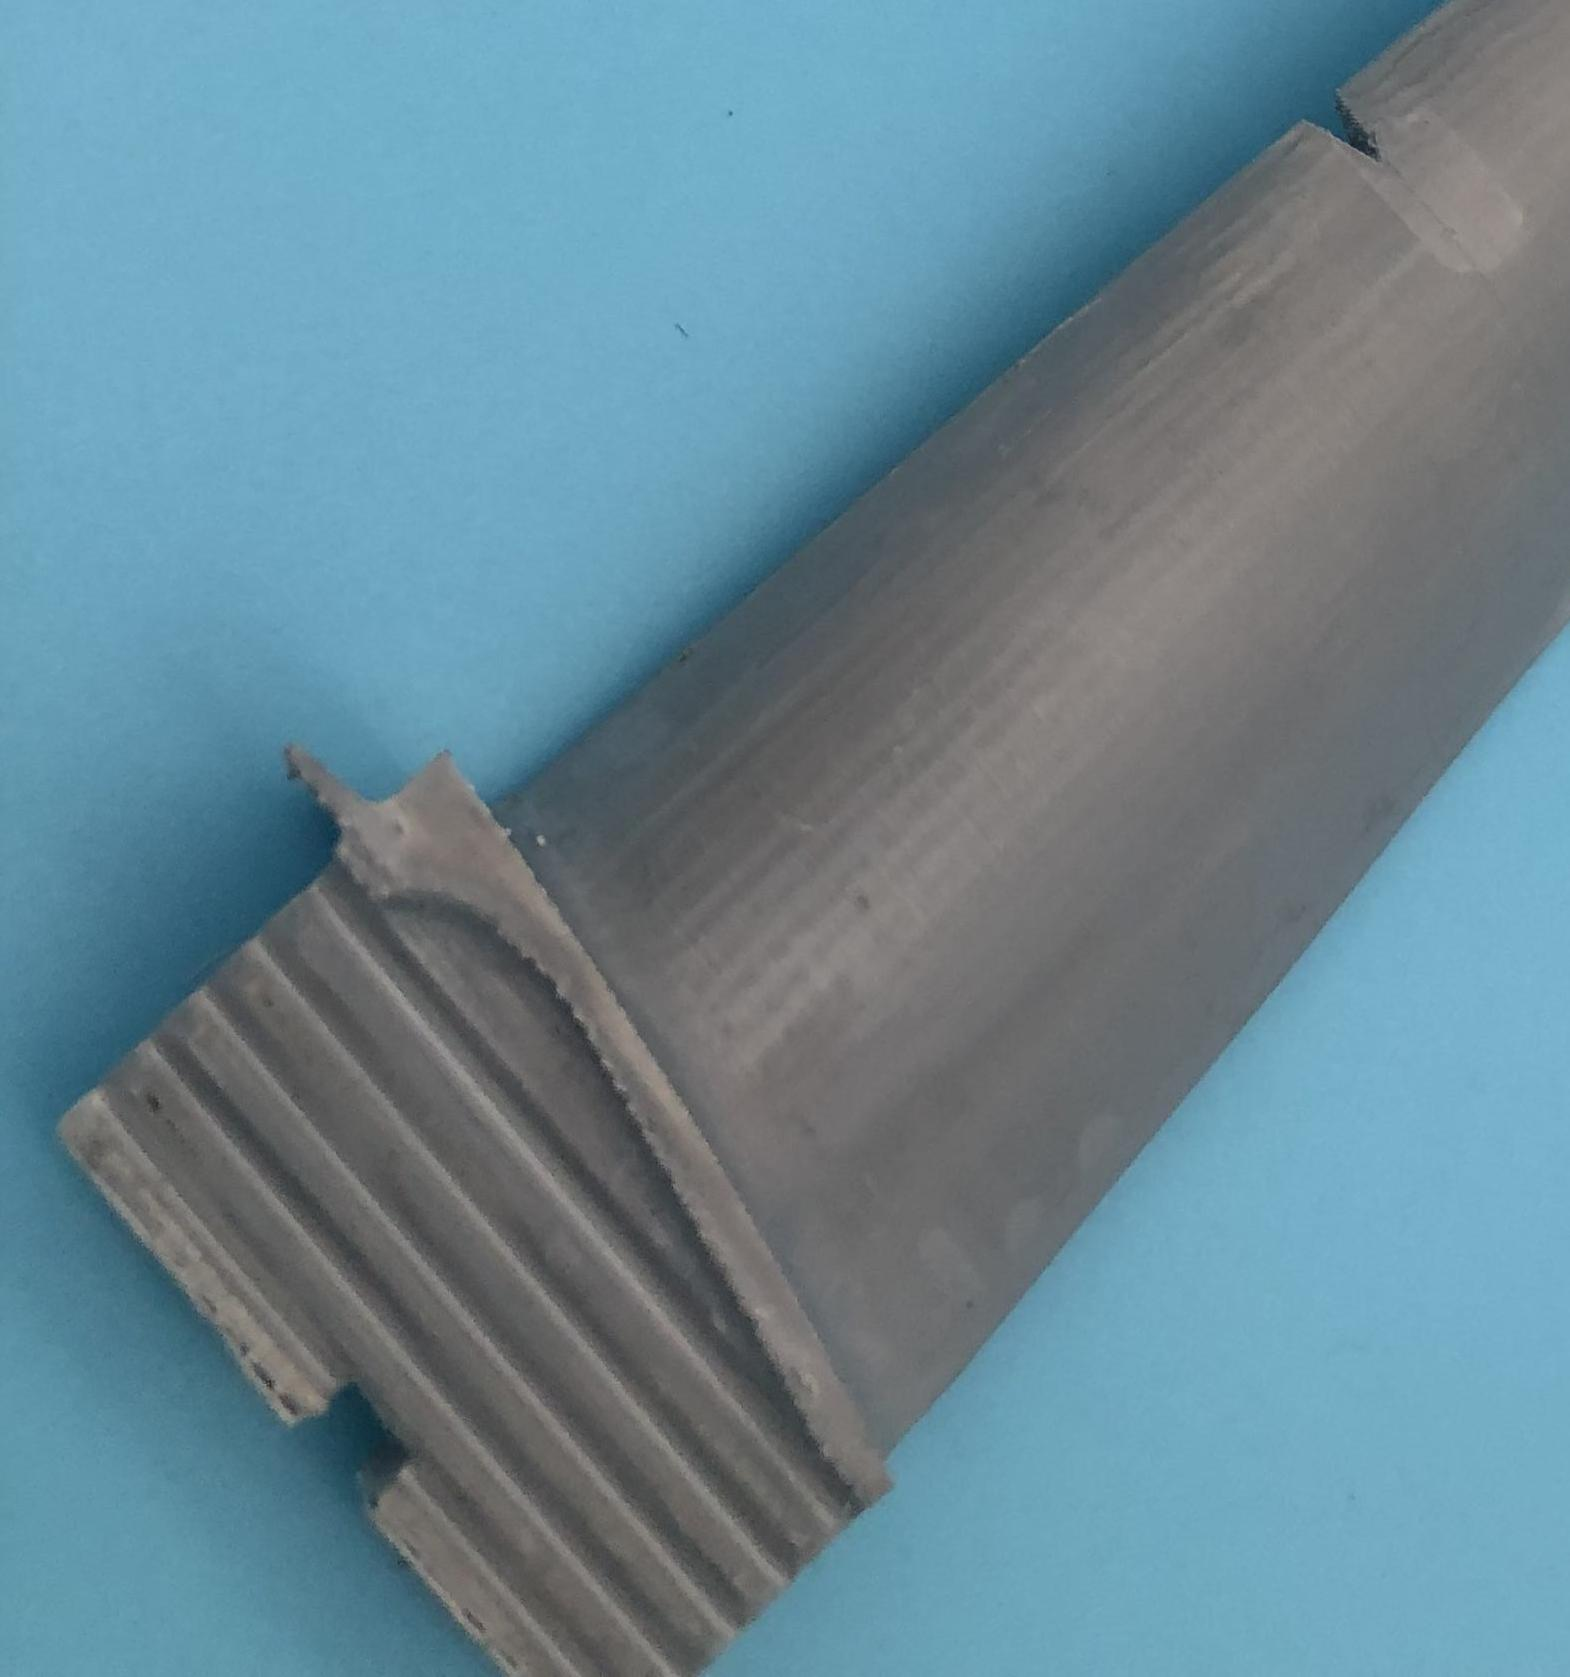groove: (1298, 88, 1402, 176)
